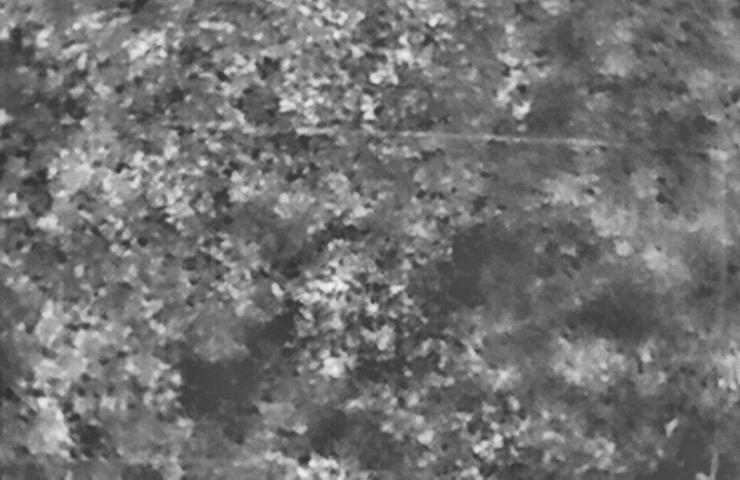landmines: (299, 239, 369, 321)
